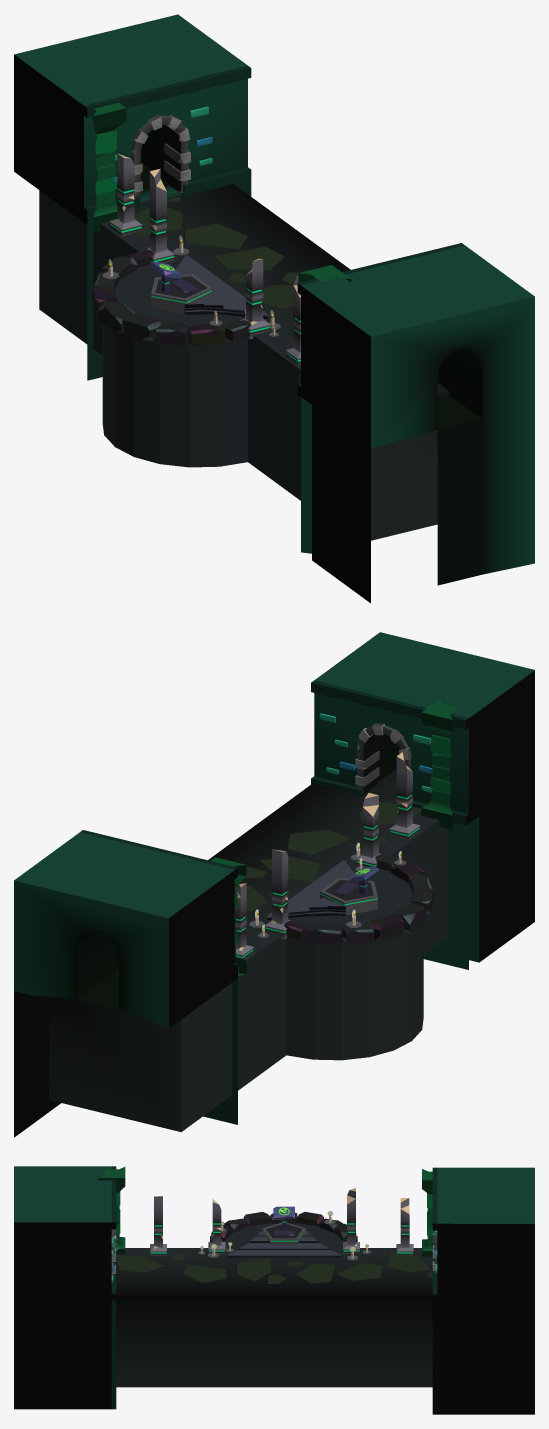
The model's file is Cthulu_Environment.fbx.
The picture shows the model from 3 angles, top to bottom: view 1: azimuth 30°, elevation 25°; view 2: azimuth 150°, elevation 25°; view 3: azimuth 270°, elevation 25°; orthographic projection. The views are drawn at different scales.
Parts seen in each view (by area): view 1: Summon_Room; view 2: Summon_Room; view 3: Summon_Room.
Boxes of the visible parts, bbox=[...] form: Summon_Room: bbox=[14, 14, 534, 603]; Summon_Room: bbox=[14, 632, 534, 1137]; Summon_Room: bbox=[14, 1166, 534, 1414].
Bounding box in the file's own units: 8.71 × 9.1 × 22.53.
